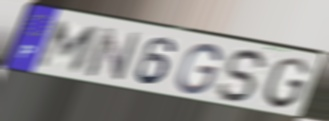6: (135, 36, 176, 87)
G: (261, 56, 312, 112), (174, 42, 224, 97)
M: (34, 18, 103, 74)
N: (82, 25, 143, 84)
S: (214, 48, 272, 105)
